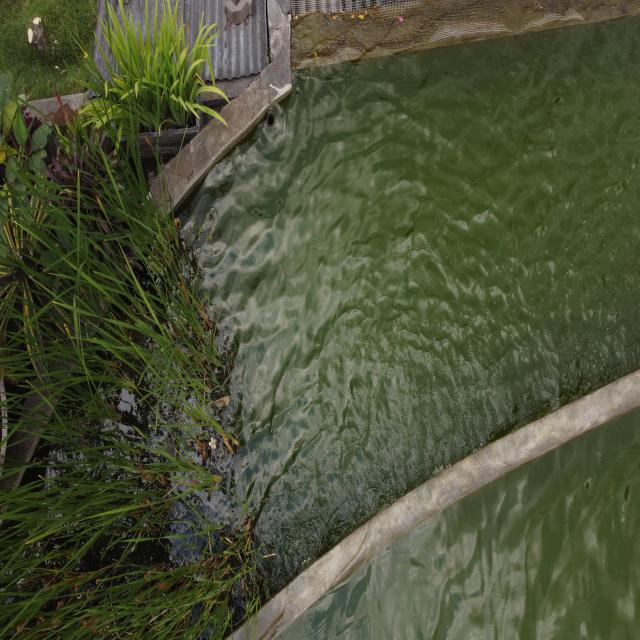Ponds: (1, 1, 640, 640), (225, 370, 640, 640)
